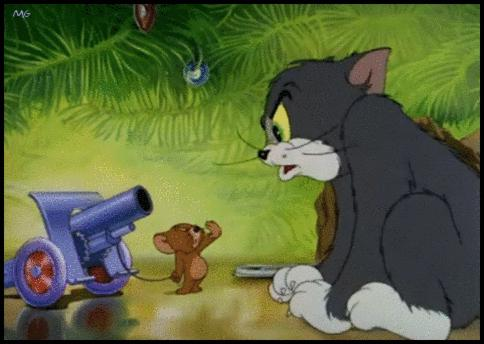jerry: (151, 219, 224, 296)
